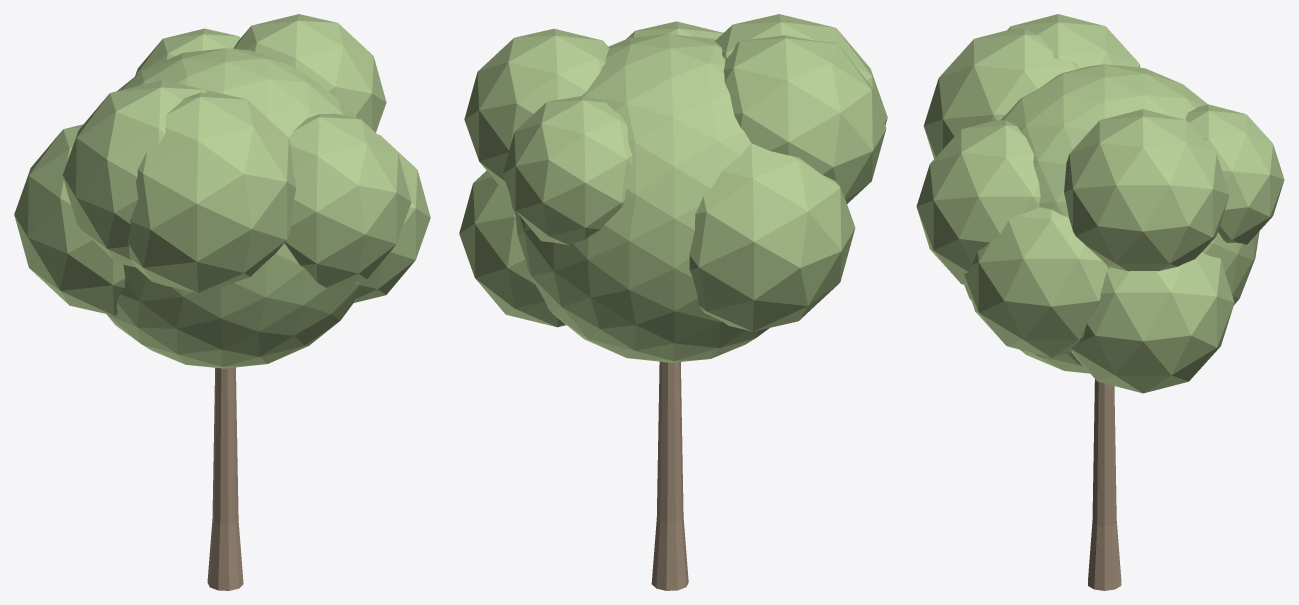
File: tree_b.glb
The picture shows the model from 3 angles, left to right: view 1: azimuth 30°, elevation 25°; view 2: azimuth 150°, elevation 25°; view 3: azimuth 270°, elevation 25°; orthographic projection. The views are drawn at different scales.
Visible parts, largest first — view 1: tree_b_leaf2, tree_b_bark; view 2: tree_b_leaf2, tree_b_bark; view 3: tree_b_leaf2, tree_b_bark.
Boxes of the visible parts, bbox=[...] form: tree_b_leaf2: bbox=[14, 14, 430, 368]; tree_b_bark: bbox=[207, 367, 243, 590]; tree_b_leaf2: bbox=[459, 14, 887, 362]; tree_b_bark: bbox=[651, 361, 688, 590]; tree_b_leaf2: bbox=[916, 14, 1284, 393]; tree_b_bark: bbox=[1088, 379, 1121, 590].
Size of the model in its own units: 4.07 by 5.85 by 3.76.
